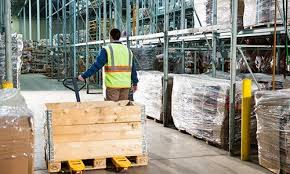Pallet Jack: (60, 76, 133, 174)
